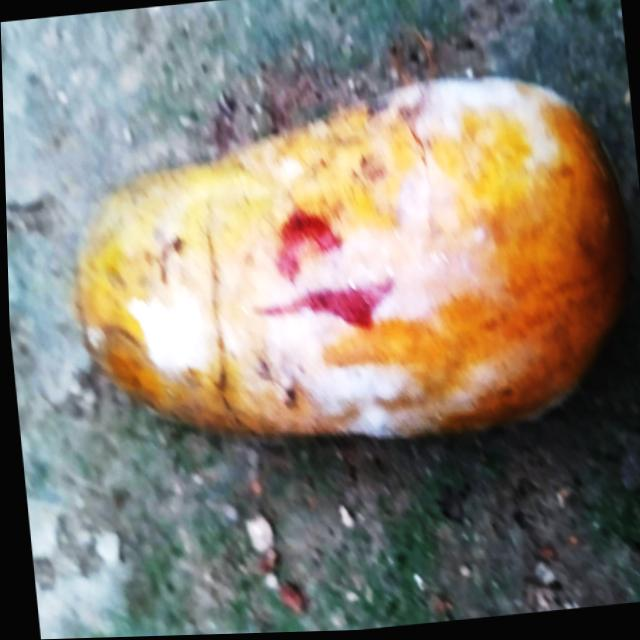Pythium-Fruit-Rot: (101, 66, 604, 468)
